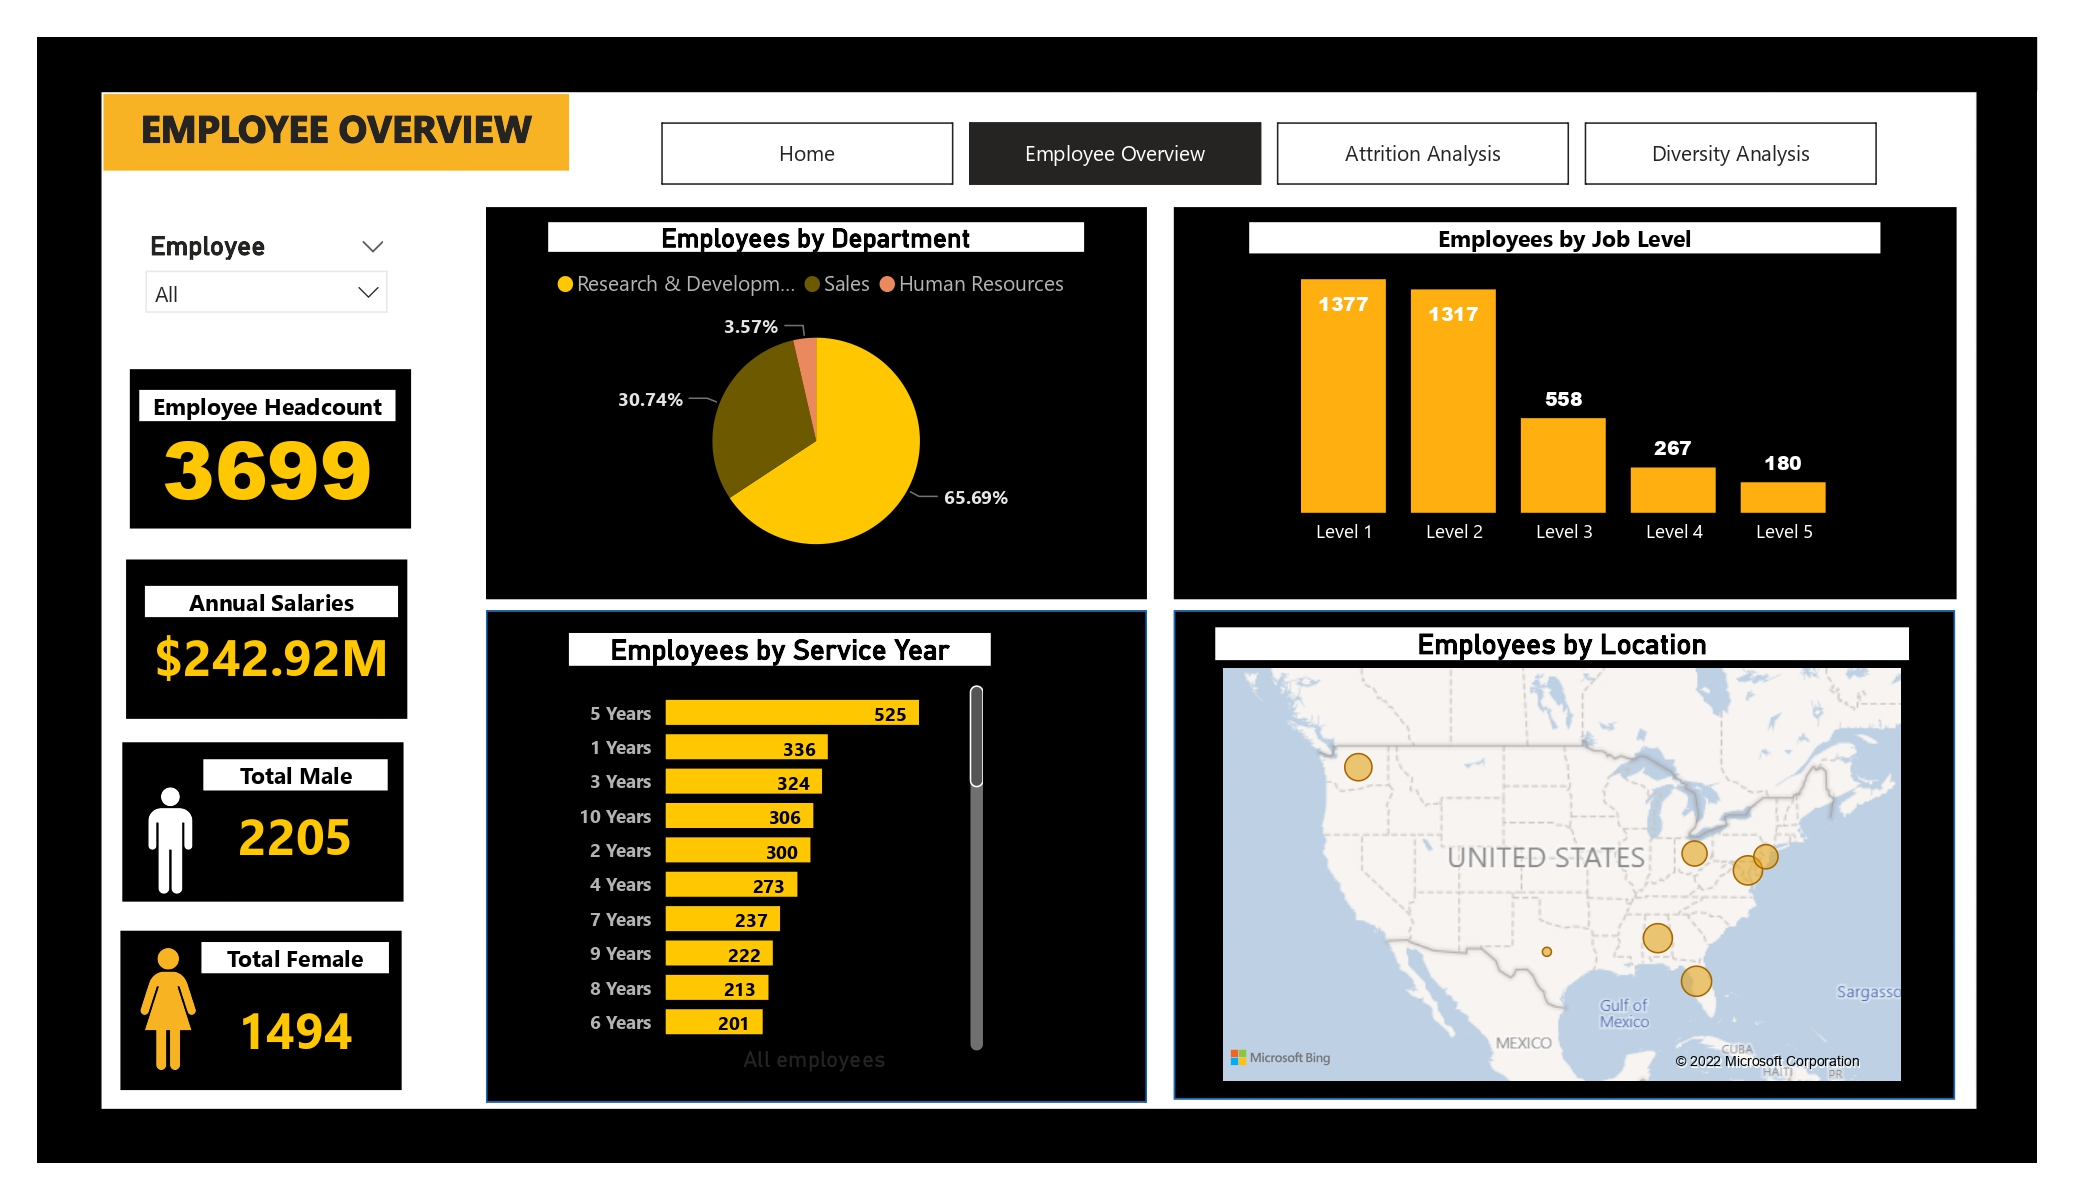

The page's visual inventory and layout, read from the dashboard file:
{"tool":"powerbi","page":{"name":"Employee Overview","canvas":[1280,720],"ordinal":1},"visuals":[{"type":"shape","box":[52.9,571.1,179.7,101.7],"z":0},{"type":"shape","box":[58.5,211.7,179.7,101.7],"z":1000},{"type":"image","box":[26.5,575.2,118.4,93.3],"z":2000},{"type":"shape","box":[54.3,451.3,179.7,101.7],"z":3000},{"type":"card","title":"Total Female","fields":{"Values":["All_Measures.Total Female"]},"box":[104.5,579.4,119.8,93.3],"z":4000},{"type":"shape","box":[57.1,334.3,179.7,101.7],"z":5000},{"type":"shape","box":[286.9,366.3,423.4,314.8],"z":6000},{"type":"shape","box":[727.1,366.3,500,313.4],"z":7000},{"type":"shape","box":[727.1,108.6,501.4,250.7],"z":8000},{"type":"shape","box":[286.9,108.6,423.4,250.7],"z":9000},{"type":"textbox","box":[41.8,36.2,298.1,48.7],"z":10000},{"type":"image","box":[46,447.1,80.8,132.3],"z":11000},{"type":"card","title":"Total Male","fields":{"Values":["All_Measures.Total male"]},"box":[105.9,462.4,118.4,79.4],"z":12000},{"type":"card","title":"Annual Salaries","fields":{"Values":["All_Measures.Gross Salary"]},"box":[68.2,351,161.6,71],"z":13000},{"type":"card","title":"Employee Headcount","fields":{"Values":["All_Measures.Total Employees"]},"box":[65.5,225.6,164.4,76.6],"z":14000},{"type":"clusteredBarChart","title":"Employees by Service Year","fields":{"Category":["Hr_data.Service Years"],"Y":["All_Measures.Total Employees"]},"box":[339.8,381.6,270.2,285.5],"z":15000},{"type":"pieChart","title":"Employees by Department","fields":{"Category":["Hr_data.Department"],"Y":["All_Measures.Total Employees"]},"box":[327.3,118.4,342.6,231.2],"z":16000},{"type":"columnChart","title":"Employees by Job Level","fields":{"Category":["Hr_data.Job Level"],"Y":["All_Measures.Total Employees"]},"box":[775.8,118.4,403.9,215.9],"z":17000},{"type":"map","title":"Employees by Location","fields":{"Size":["All_Measures.Total Employees"],"Category":["Hr_data.Demograph_data.location"]},"box":[753.5,377.5,444.3,295.3],"z":18000},{"type":"pageNavigator","box":[399.7,54.3,780,40.4],"z":19000},{"type":"slicer","fields":{"Values":["Hr_data.Employee"]},"box":[58.5,118.4,175.5,64.1],"z":21000}]}

Visuals, with their boxes in screenshot pixels (x1, y1, x2, y2):
shape: detection(120, 930, 401, 1089)
shape: detection(129, 368, 410, 527)
image: detection(79, 936, 264, 1082)
shape: detection(122, 743, 403, 902)
"Total Female" card: detection(201, 943, 388, 1089)
shape: detection(127, 560, 408, 719)
shape: detection(486, 610, 1147, 1102)
shape: detection(1174, 610, 1955, 1100)
shape: detection(1174, 207, 1957, 599)
shape: detection(486, 207, 1147, 599)
textbox: detection(103, 94, 569, 170)
image: detection(109, 736, 236, 943)
"Total Male" card: detection(203, 760, 388, 884)
"Annual Salaries" card: detection(144, 586, 397, 697)
"Employee Headcount" card: detection(140, 390, 397, 510)
"Employees by Service Year" clusteredBarChart: detection(568, 634, 991, 1080)
"Employees by Department" pieChart: detection(549, 222, 1084, 584)
"Employees by Job Level" columnChart: detection(1250, 222, 1881, 560)
"Employees by Location" map: detection(1215, 627, 1909, 1089)
pageNavigator: detection(662, 122, 1881, 185)
slicer - Hr_data.Employee: detection(129, 222, 403, 323)
